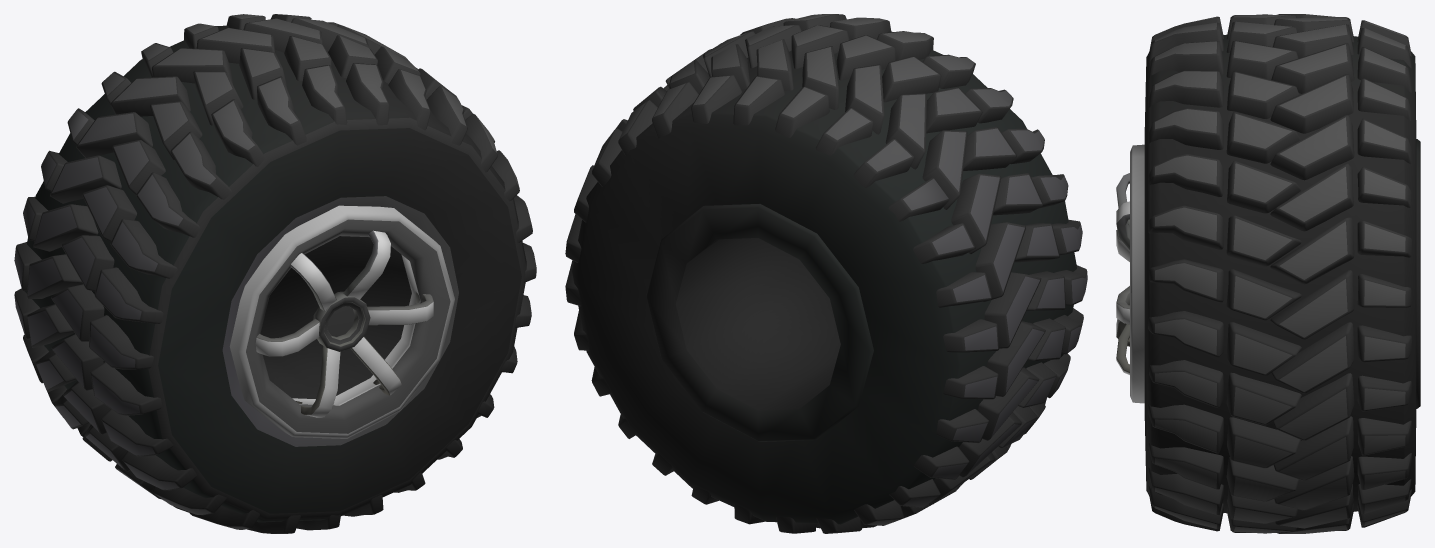
File: wheel_08.fbx
3 views of the same model, side by side, from view 1: azimuth 30°, elevation 25°; view 2: azimuth 150°, elevation 25°; view 3: azimuth 270°, elevation 25° (orthographic). The views are drawn at different scales.
Parts seen in each view (by area): view 1: wheel_08; view 2: wheel_08; view 3: wheel_08.
Boxes of the visible parts, box(x1,y1,x2,y2) form: wheel_08: box(14, 14, 536, 533); wheel_08: box(565, 14, 1087, 533); wheel_08: box(1116, 14, 1420, 533).
Size of the model in its own units: 118 by 118 by 68.95.
